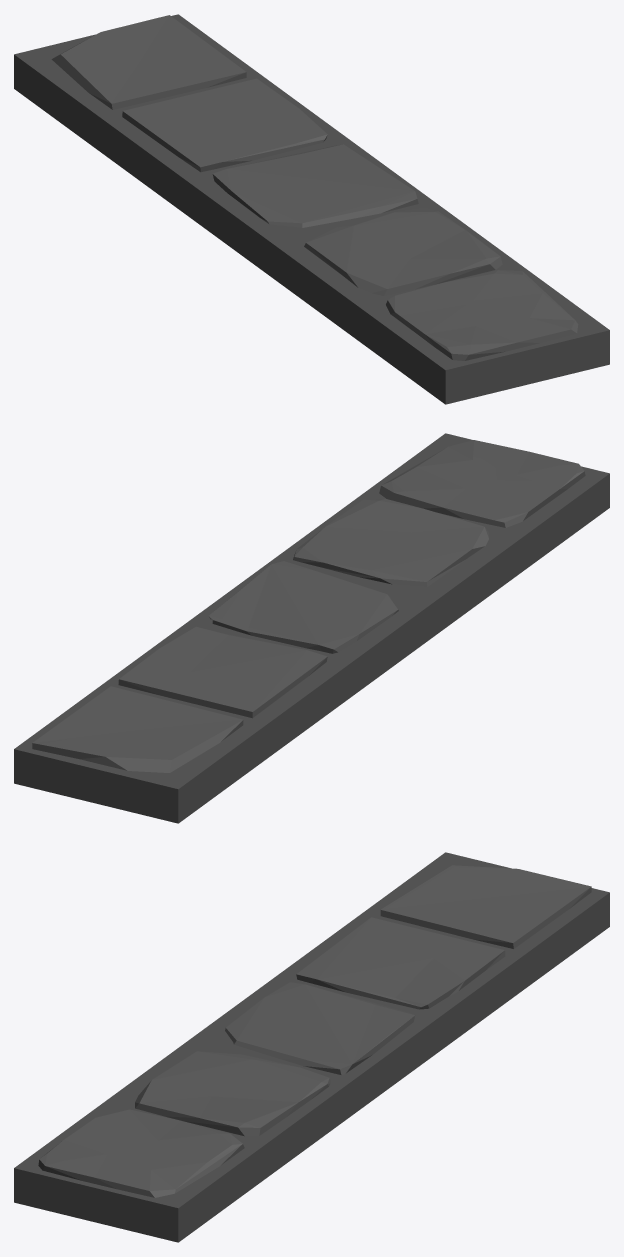
File: Tile_04.glb
3 views of the same model, one above another, from view 1: azimuth 30°, elevation 25°; view 2: azimuth 150°, elevation 25°; view 3: azimuth 330°, elevation 25° (orthographic).
Visible parts, largest first — view 1: Tile_04_LOD0; view 2: Tile_04_LOD0; view 3: Tile_04_LOD0.
Boxes of the visible parts, <box> form: Tile_04_LOD0: <box>14,14,609,404</box>; Tile_04_LOD0: <box>14,433,609,823</box>; Tile_04_LOD0: <box>14,852,609,1242</box>.
Size of what is drawn, in the model's own units: 0.55 by 0.1386 by 2.5.
1 material, 1 textured.
